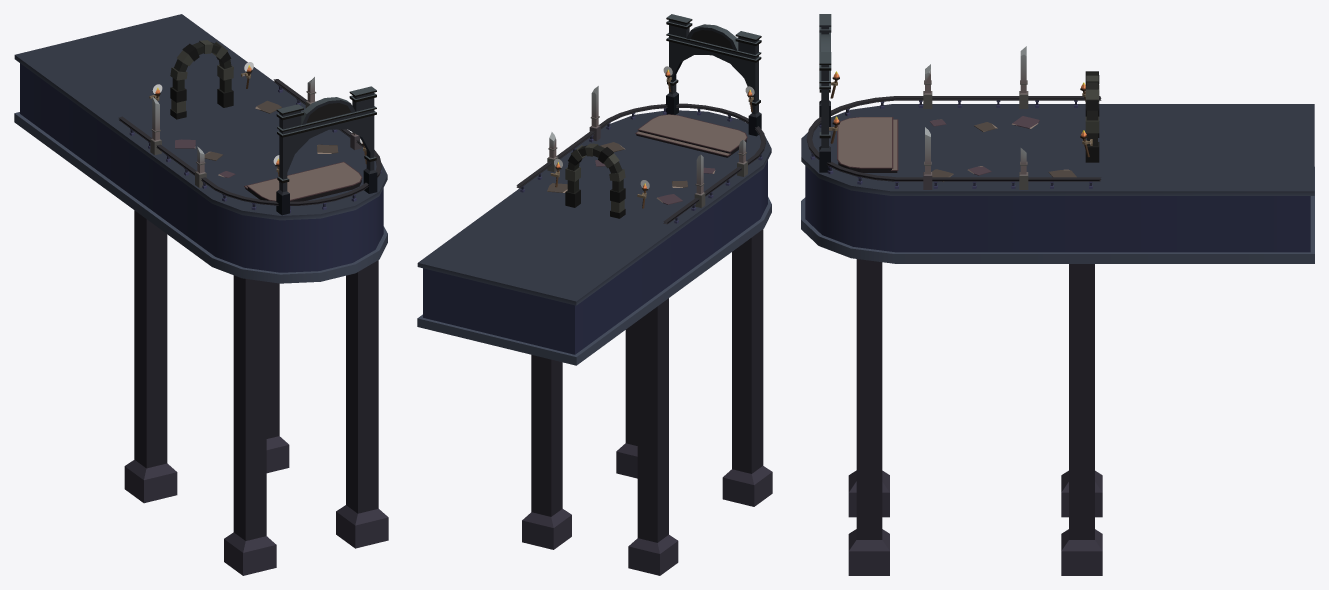
Rendered from Ending Balcony.fbx.
The picture shows the model from 3 angles, left to right: view 1: azimuth 30°, elevation 25°; view 2: azimuth 150°, elevation 25°; view 3: azimuth 270°, elevation 25°; orthographic projection. The views are drawn at different scales.
Visible parts, largest first — view 1: Balcony; view 2: Balcony; view 3: Balcony.
Part boxes in pixels (x1,y1,x2,y2): Balcony: [14, 14, 388, 575]; Balcony: [417, 14, 772, 575]; Balcony: [801, 14, 1314, 575].
Bounding box in the file's own units: 16.05 × 42.69 × 39.8.
